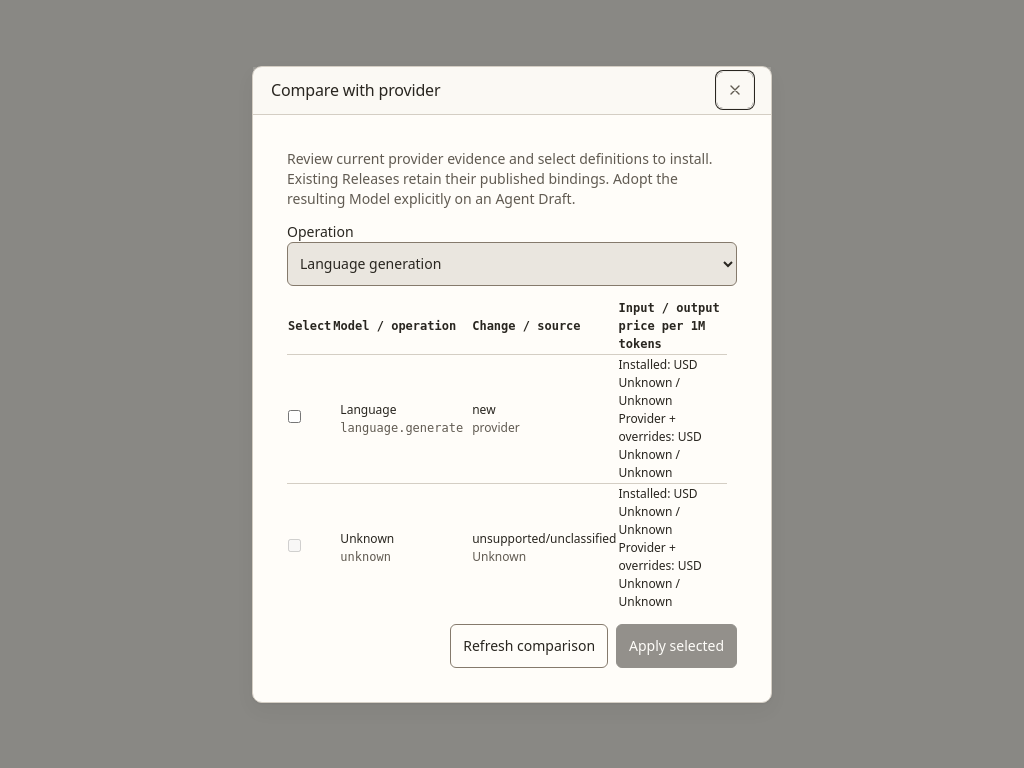
it: requires selection and confirmation before applying the reviewed evidence
This screenshot has width=1024, height=768.
Expected: the checkbox named "Select Unknown" is disabled, x1=288 y1=538 x2=301 y2=552
Click the checkbox named "Select Language" at (294, 416), box x1=288 y1=410 x2=301 y2=422
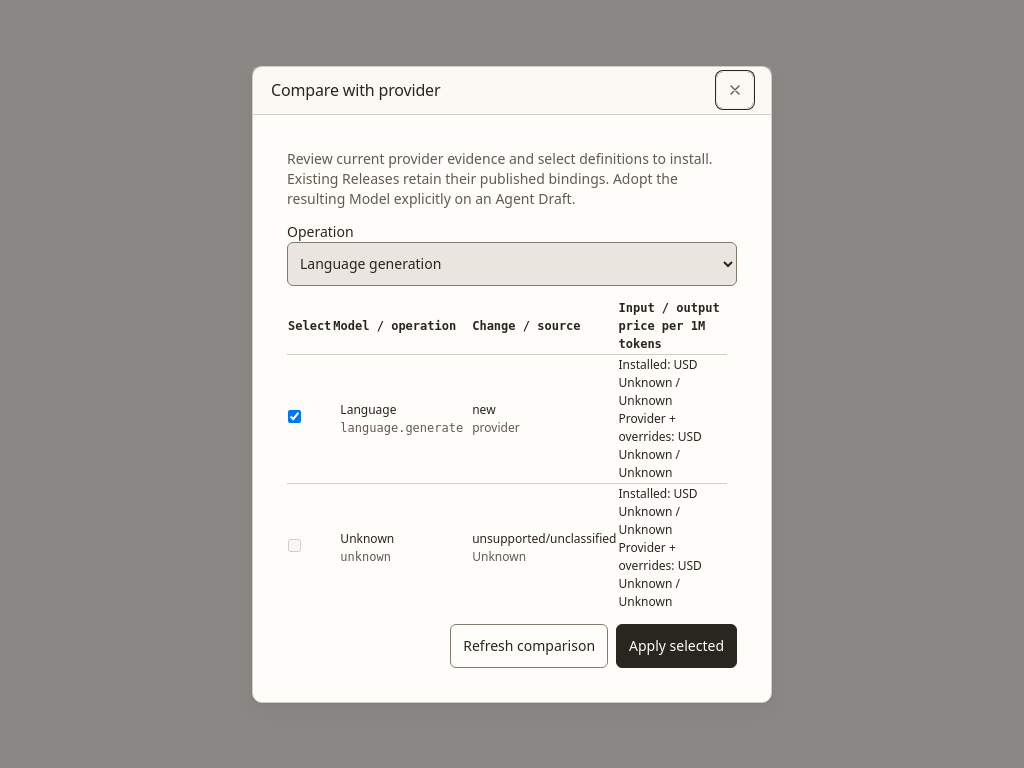
Click the button "Apply selected" at (676, 646), box x1=616 y1=624 x2=737 y2=668
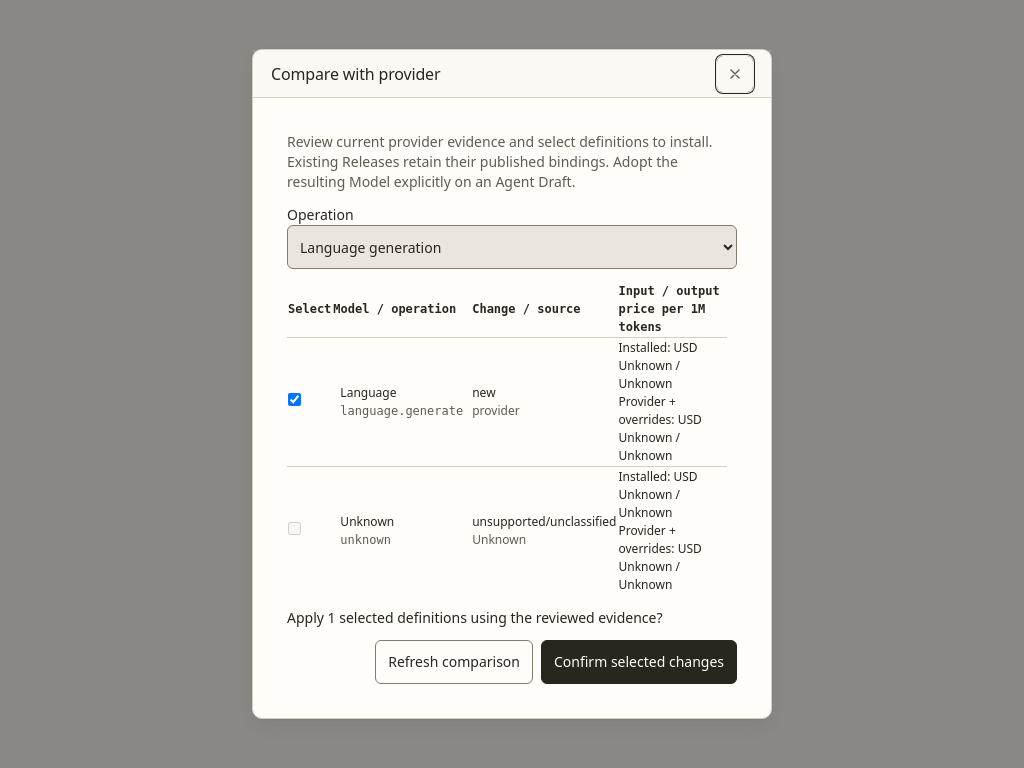
Click the button "Confirm selected changes" at (639, 662), box x1=541 y1=640 x2=737 y2=684
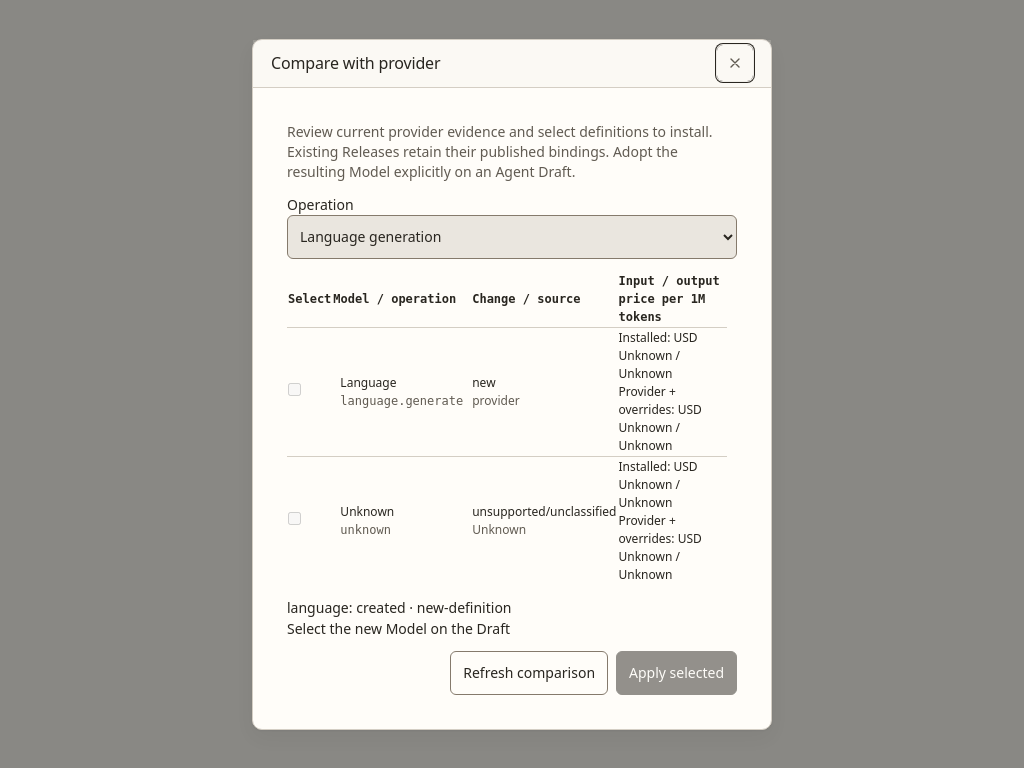
Expected: the text "new-definition" is shown, x1=417 y1=598 x2=512 y2=616
Expected: the text "Select the new Model on the Draft" is shown, x1=287 y1=618 x2=510 y2=638
